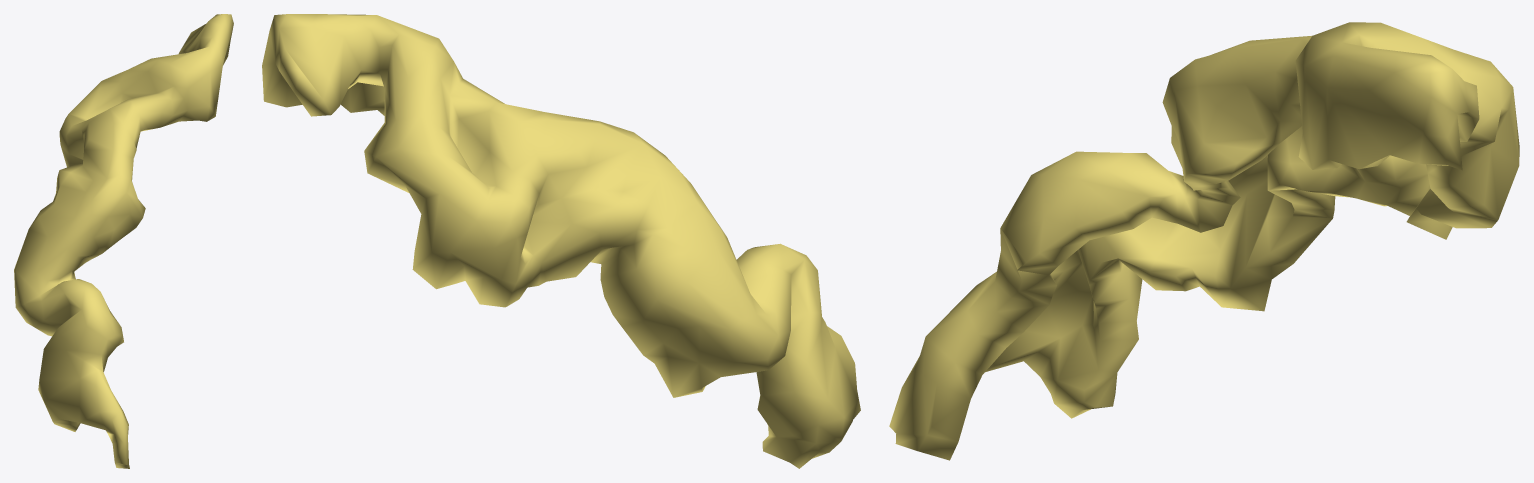
File: postcentral-gyrus-r.glb
3 renders of one model, left to right at view 1: azimuth 30°, elevation 25°; view 2: azimuth 150°, elevation 25°; view 3: azimuth 270°, elevation 25°, orthographic. The views are drawn at different scales.
Visible parts, largest first — view 1: Postcentral gyrus.r; view 2: Postcentral gyrus.r; view 3: Postcentral gyrus.r.
Part boxes in pixels (box(x1,y1,x2,y2)): Postcentral gyrus.r: box(14, 14, 233, 468); Postcentral gyrus.r: box(262, 14, 860, 468); Postcentral gyrus.r: box(889, 22, 1519, 460).
Size of the model in its own units: 0.0528 by 0.0558 by 0.0515.
